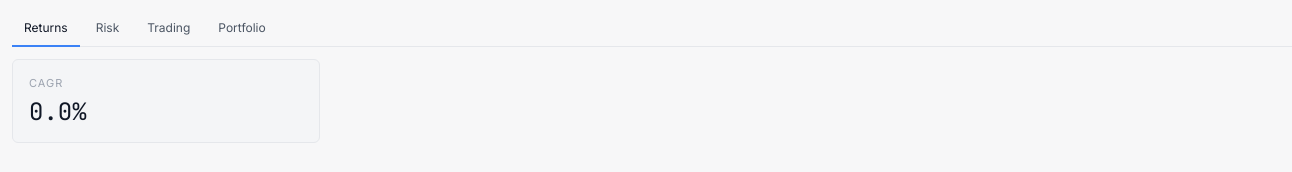
Test: KpiCards › omits avg duration when the metric is null
Step 1. Click the tab "Trading" → (169, 29), box x1=135 y1=12 x2=202 y2=47
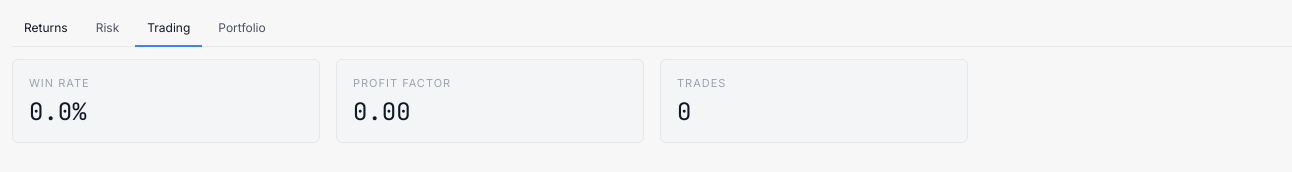
Expected: the text "Trades" is shown, x1=677 y1=76 x2=726 y2=90
